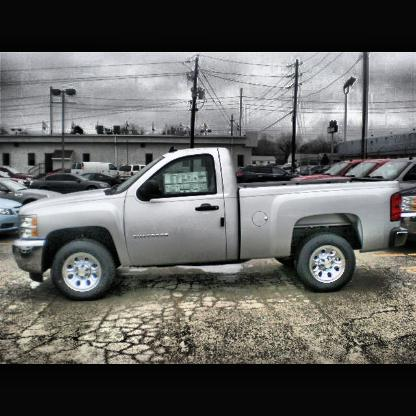Chevrolet Silverado 1500 Regular Cab 2012: (14, 148, 409, 302)
